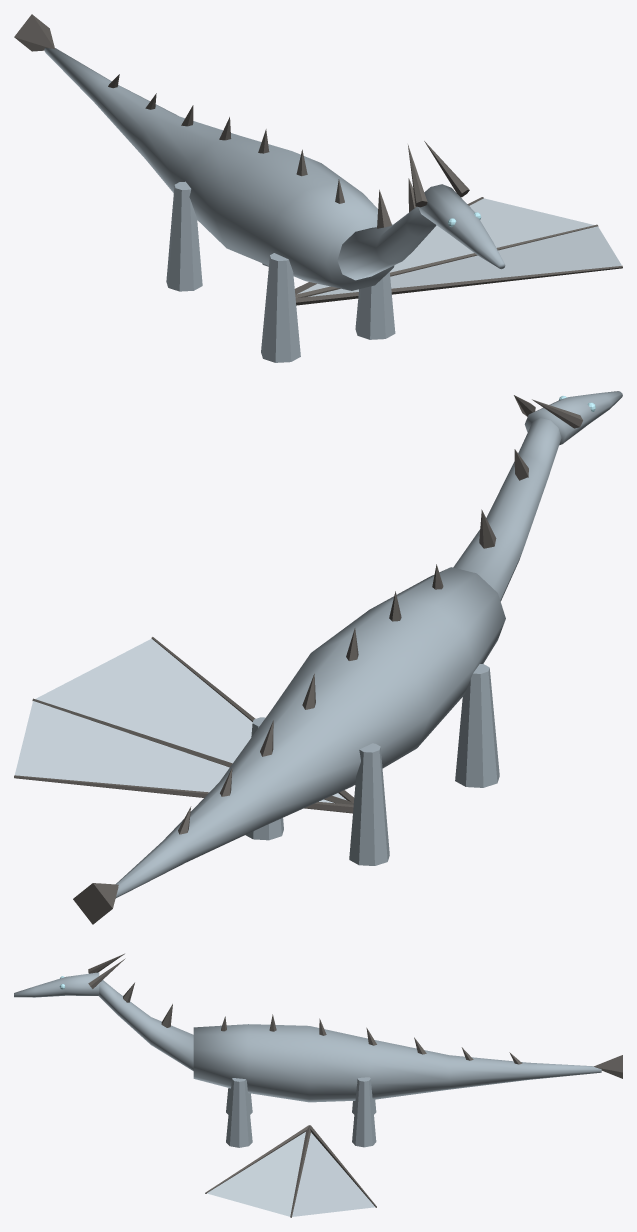
File: dragon.glb
3 views of the same model, one above another, from view 1: azimuth 30°, elevation 25°; view 2: azimuth 150°, elevation 25°; view 3: azimuth 270°, elevation 25° (orthographic). The views are drawn at different scales.
Parts seen in each view (by area): view 1: Body, WingL; view 2: Body, WingL; view 3: Body, WingL.
Part boxes in pixels (<box>): Body: <box>14,14,505,362</box>; WingL: <box>294,197,622,305</box>; Body: <box>73,391,622,924</box>; WingL: <box>14,637,354,813</box>; Body: <box>14,953,622,1147</box>; WingL: <box>205,1125,376,1217</box>.
Size of the model in its own units: 4.6 by 3.16 by 10.
